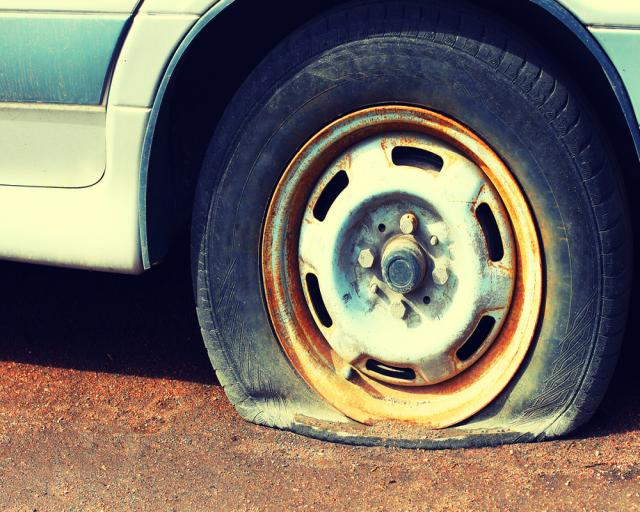tire flat: (190, 0, 629, 449)
